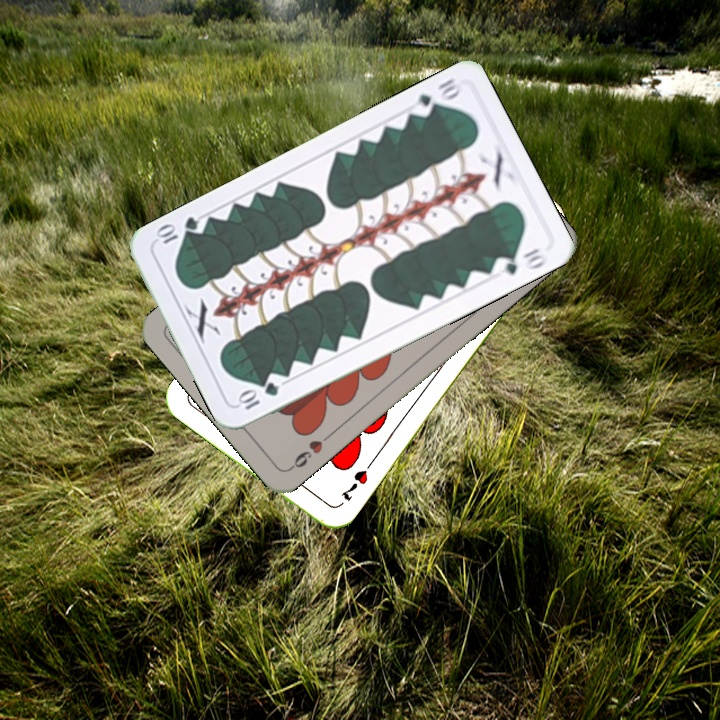G10: (406, 73, 464, 120), (232, 378, 282, 413)
H7: (336, 465, 371, 504)
H9: (285, 430, 334, 473)
